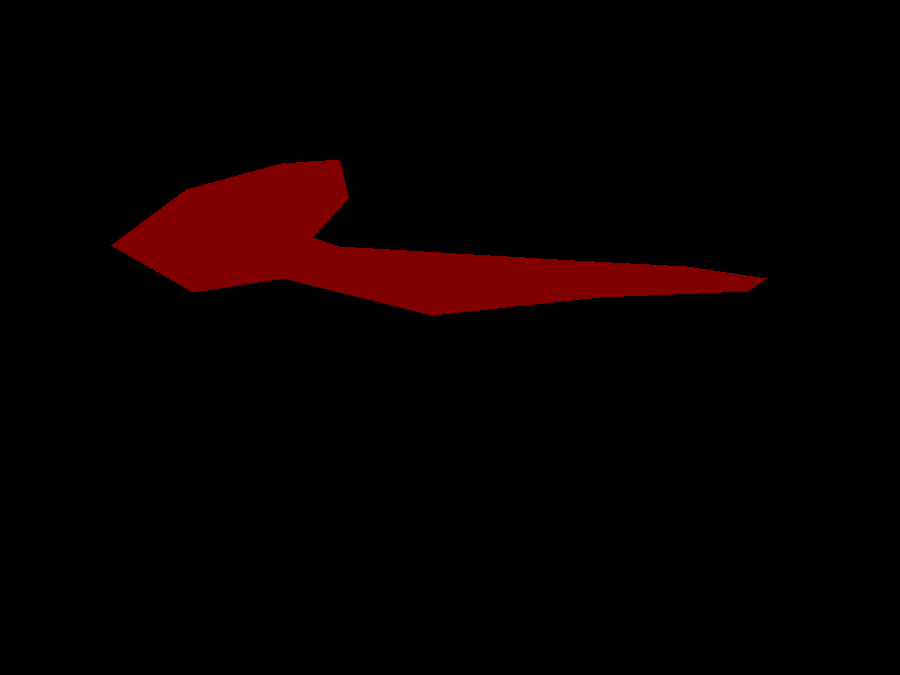fire: (111, 159, 766, 315)
